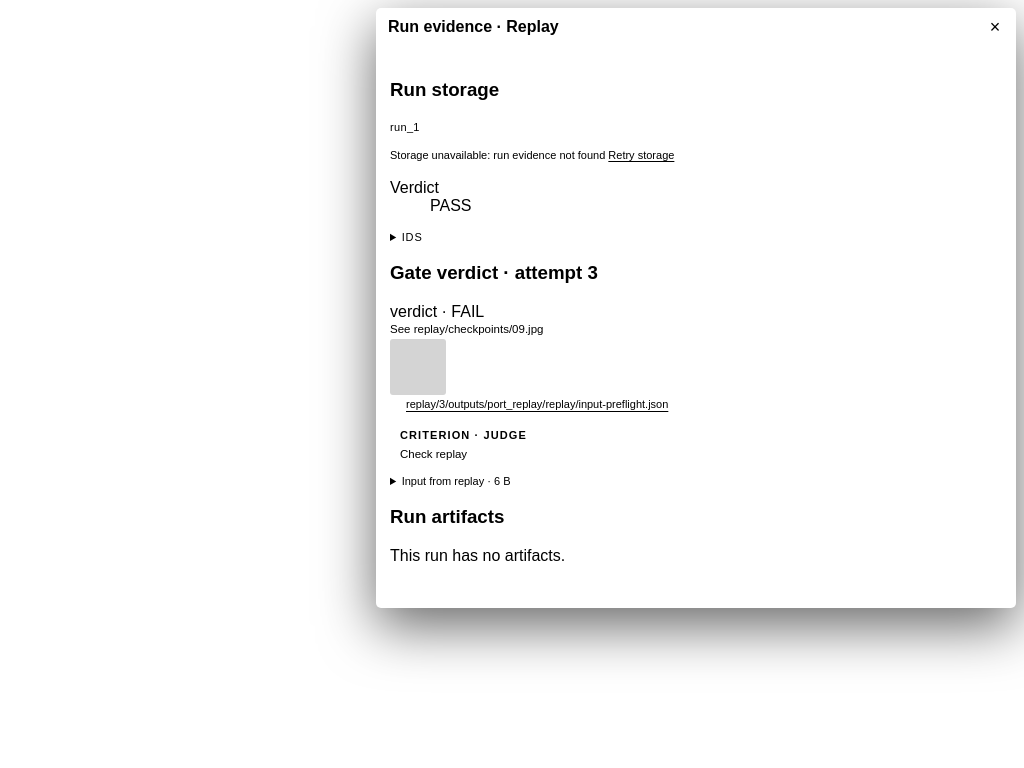
RunEvidence › uses the evaluated attempt output folder for fail gate citations
This screenshot has width=1024, height=768.
Click the button "replay/3/outputs/port_replay/replay/input-preflight.json" at (537, 405), box x1=406 y1=397 x2=668 y2=413
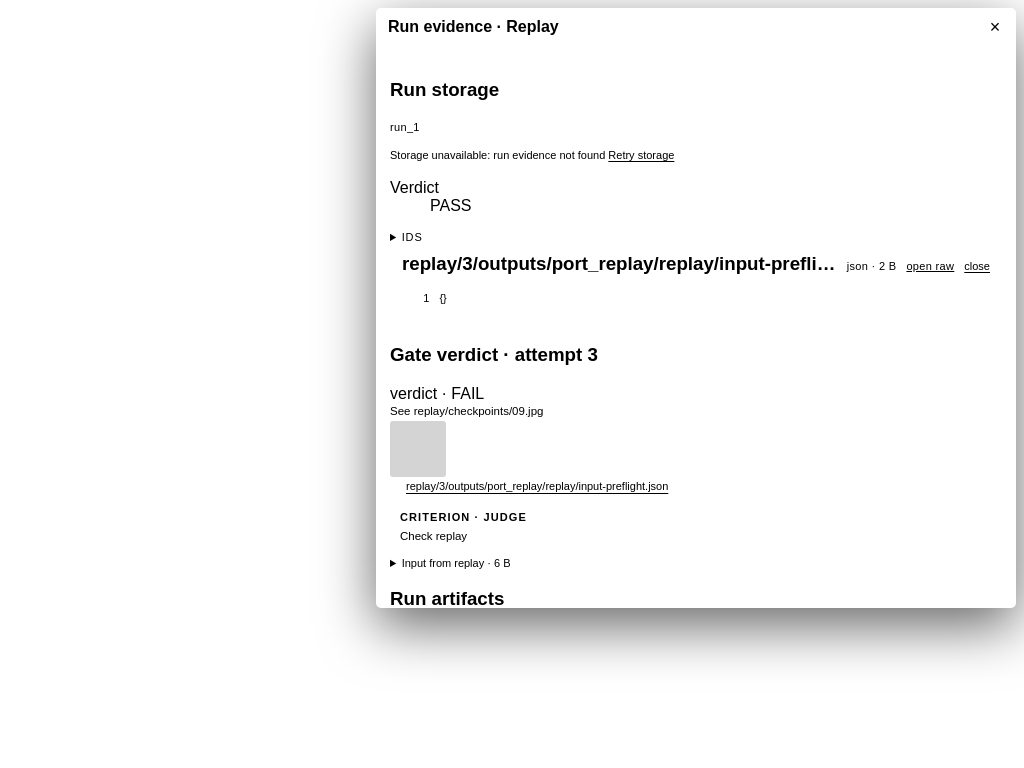
Result: the element with test id "evidence-document" shows "input-preflight.json" at x1=402 y1=253 x2=889 y2=274
